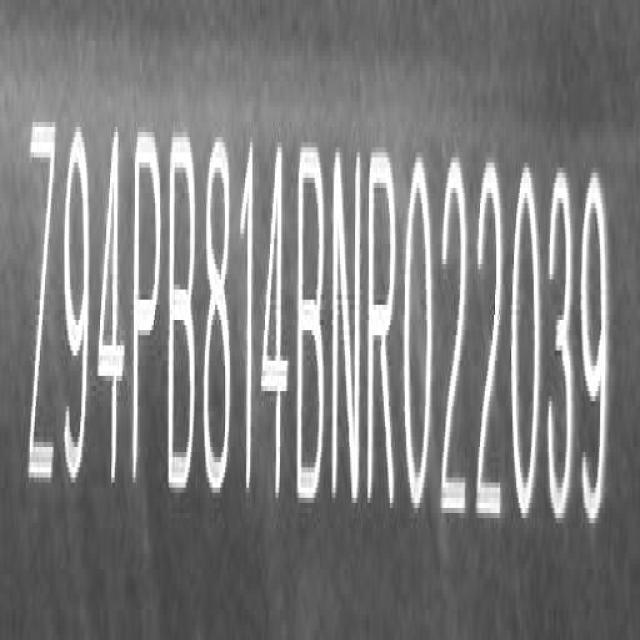0: (399, 156, 436, 510), (510, 160, 541, 519)
1: (238, 132, 255, 494)
2: (473, 156, 505, 523), (438, 152, 469, 510)
3: (546, 164, 576, 519)
4: (97, 122, 126, 497), (262, 143, 290, 502)
8: (199, 132, 234, 494)
9: (59, 130, 93, 482), (577, 173, 610, 516)
B: (292, 143, 327, 504), (165, 124, 197, 497)
N: (330, 147, 362, 502)
P: (131, 132, 163, 485)
R: (366, 139, 396, 504)
Z: (27, 117, 57, 500)
